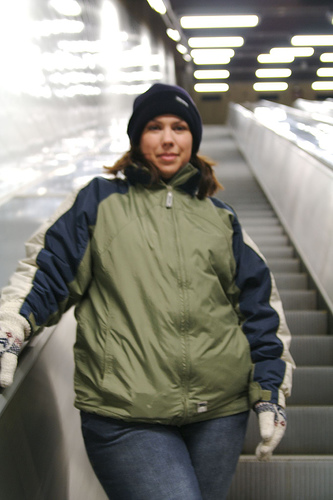without_mask: (136, 107, 199, 178)
